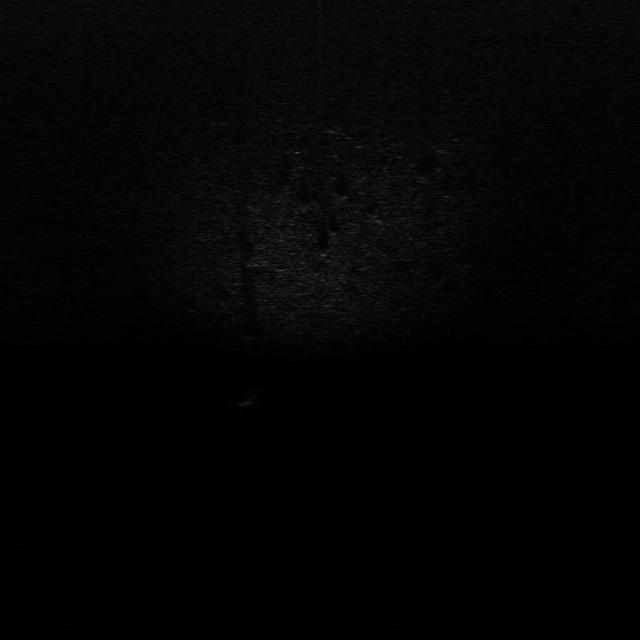human body: (231, 386, 267, 414)
